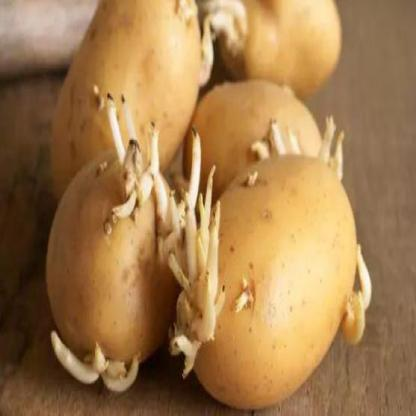potato: (181, 126, 380, 415), (41, 98, 202, 404), (40, 0, 236, 215)
